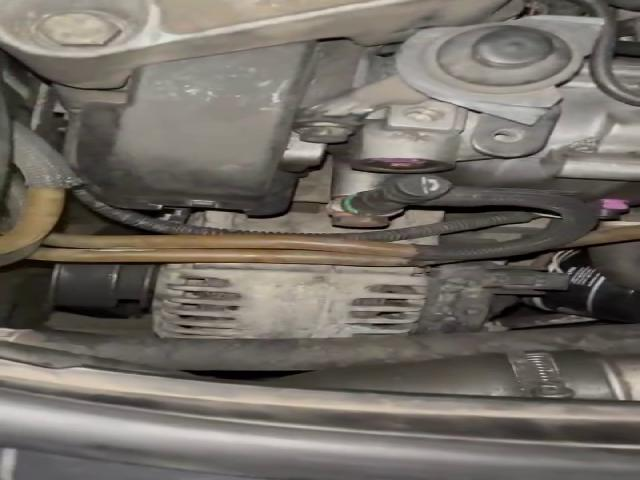alternator: (149, 260, 565, 339)
high_pressure_pump: (327, 56, 640, 218)
